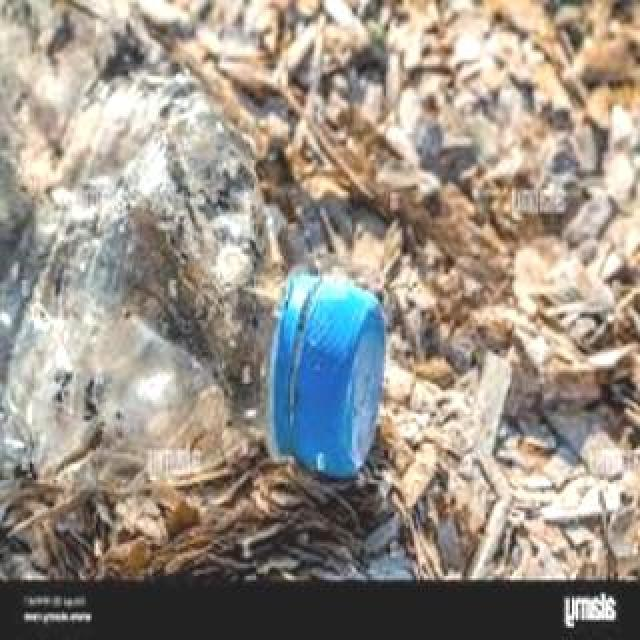Pet_Bottle: (1, 0, 403, 484)
